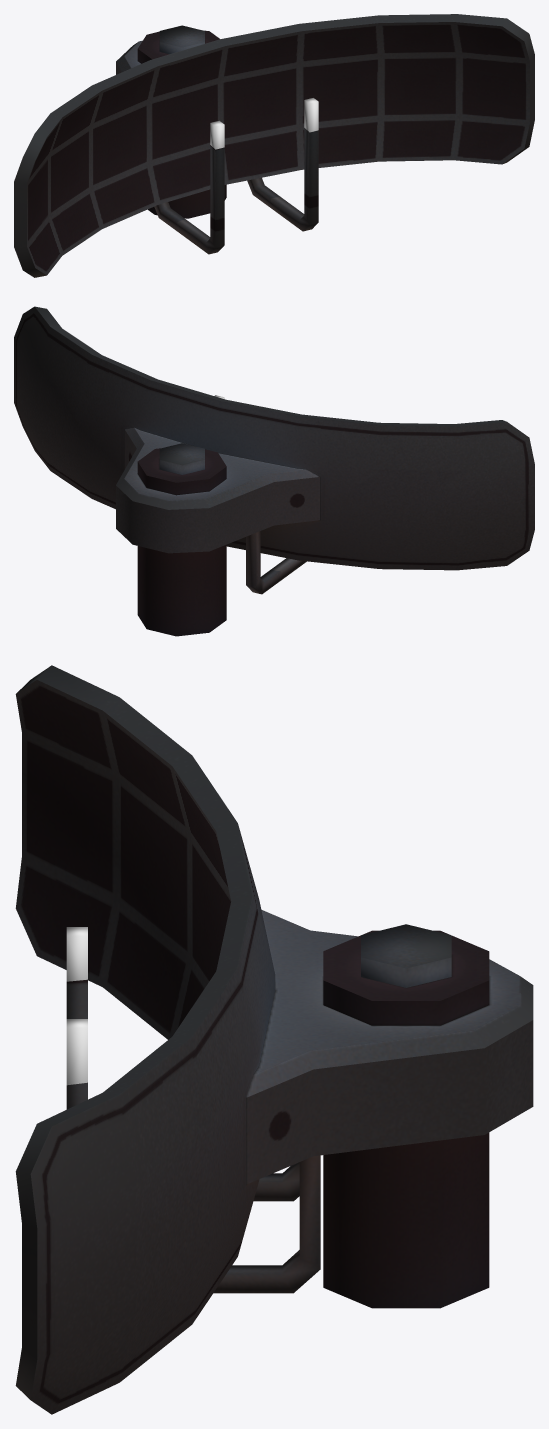
The model's file is Wepaon 5 V2 EX.fbx.
The picture shows the model from 3 angles, top to bottom: view 1: azimuth 30°, elevation 25°; view 2: azimuth 150°, elevation 25°; view 3: azimuth 270°, elevation 25°; orthographic projection. The views are drawn at different scales.
Parts seen in each view (by area): view 1: Radar_Dish; view 2: Radar_Dish; view 3: Radar_Dish.
Part boxes in pixels (x1,y1,x2,y2): Radar_Dish: [14, 14, 534, 277]; Radar_Dish: [14, 306, 534, 636]; Radar_Dish: [15, 665, 533, 1414].
Bounding box in the file's own units: 208 × 71.87 × 89.32.
